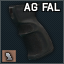SA-58 FAB Defense AG-FAL pistol grip: (0, 0, 64, 64)
